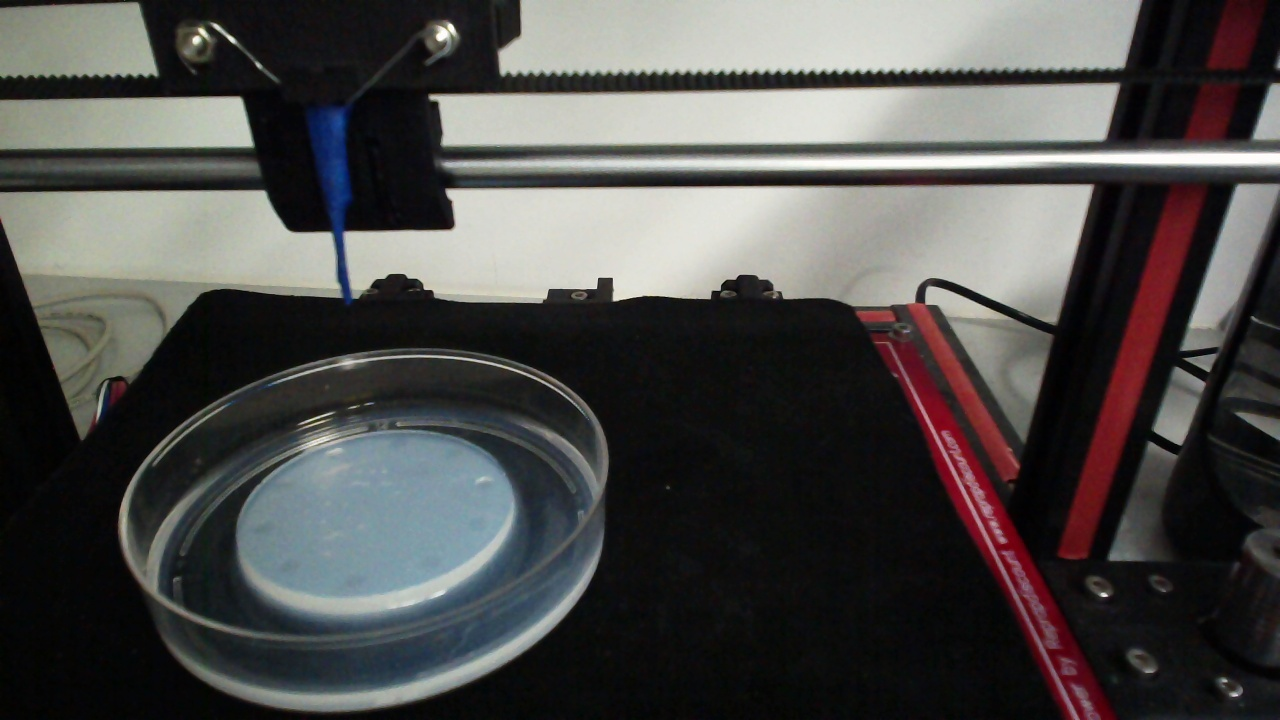groove: (418, 552, 442, 572), (465, 515, 490, 534), (274, 556, 299, 574), (341, 573, 365, 590), (387, 434, 411, 450), (472, 475, 495, 491), (250, 521, 272, 536), (442, 445, 463, 460), (325, 448, 346, 460), (271, 478, 290, 491)
needle: (305, 107, 353, 309)
